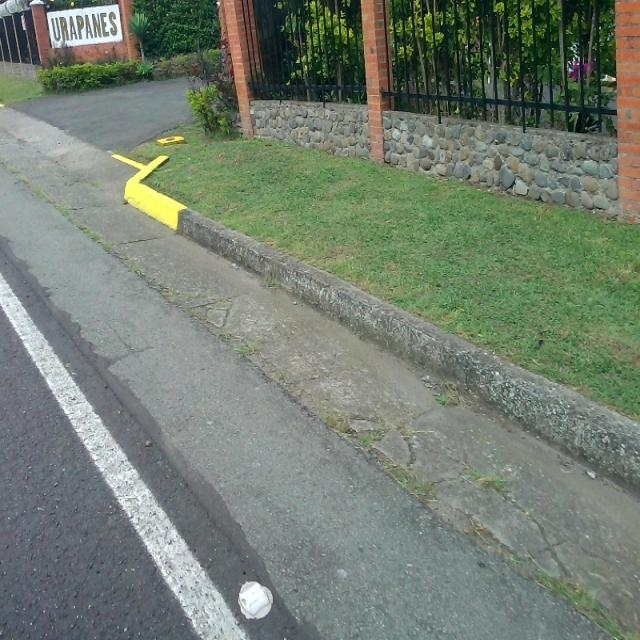DITCH: (1, 73, 638, 638), (1, 101, 638, 638), (114, 96, 638, 638)
